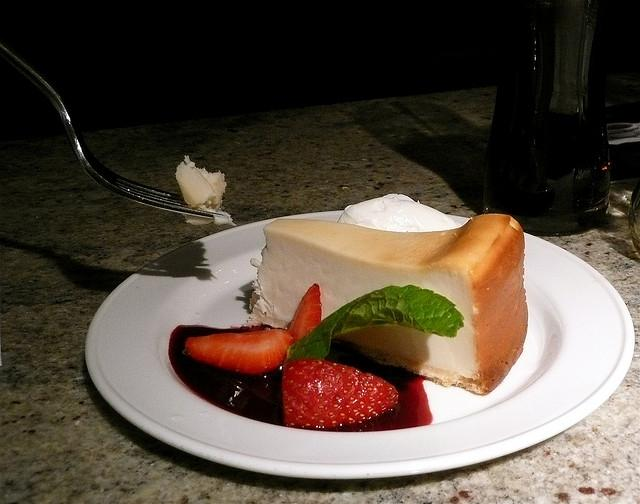strawberry: (282, 359, 398, 430), (182, 328, 296, 374), (288, 282, 322, 342)
